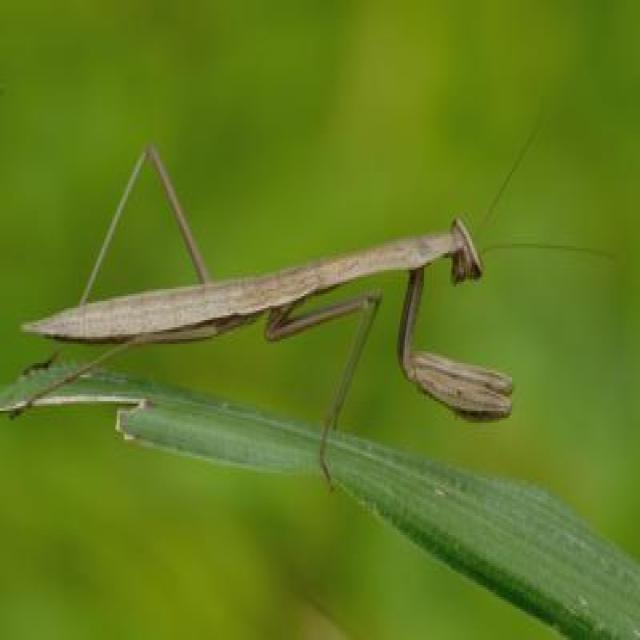antennae: (471, 123, 538, 248), (477, 240, 618, 264)
body: (66, 220, 482, 344)
insect: (5, 123, 615, 485)
legs: (20, 152, 217, 371), (254, 290, 371, 478), (395, 259, 515, 423), (7, 329, 168, 425), (395, 264, 515, 390)
mouthpart: (448, 261, 464, 293)
wings: (16, 261, 312, 342)
